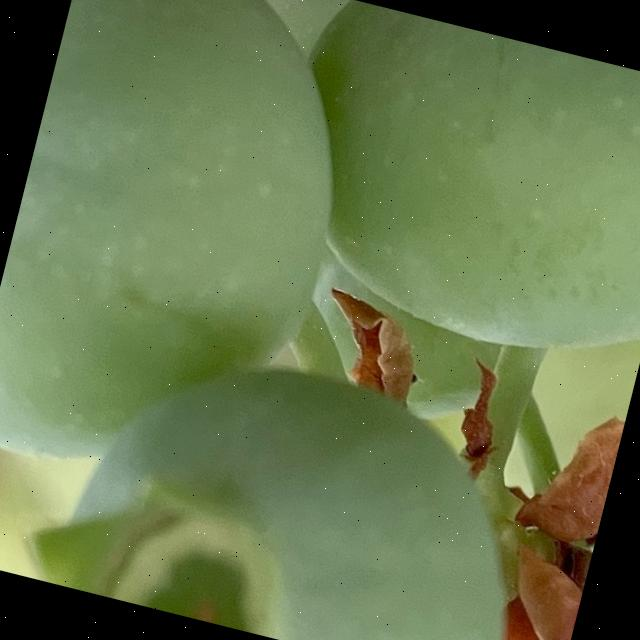Blueberries: (0, 0, 391, 519), (24, 316, 560, 640), (243, 0, 640, 385)
